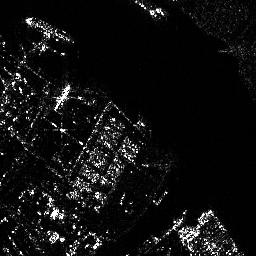ship: (22, 17, 74, 44), (135, 1, 169, 20), (53, 81, 72, 111)
